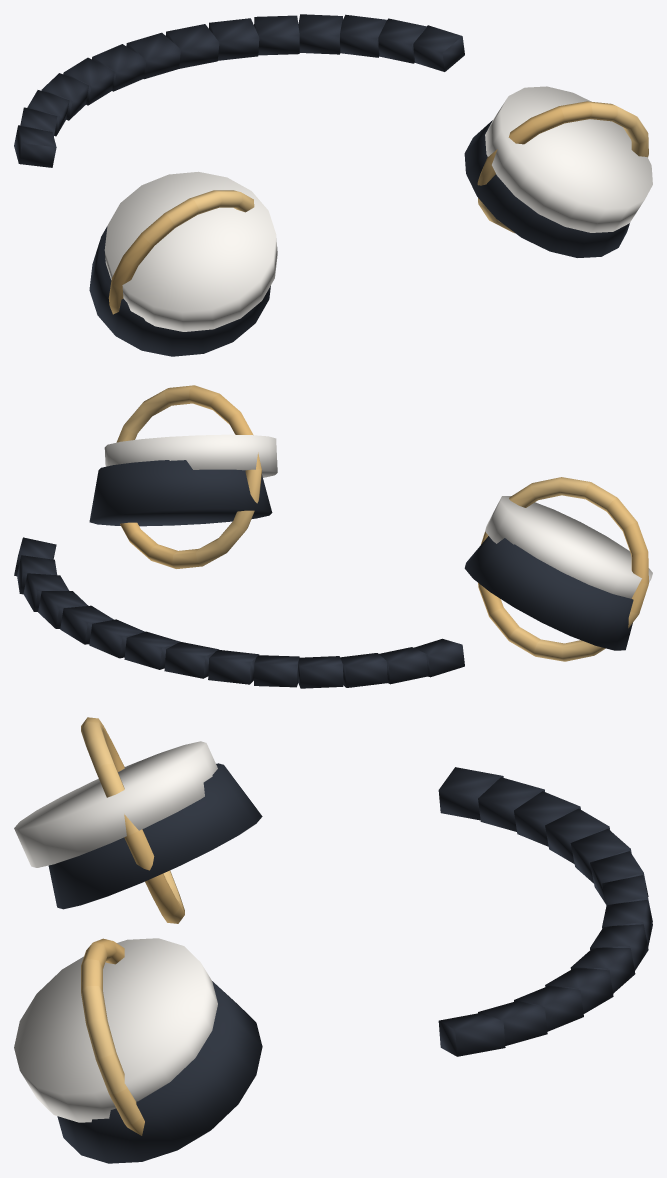
Rendered from studio-headphones.glb.
3 views of the same model, one above another, from view 1: azimuth 30°, elevation 25°; view 2: azimuth 150°, elevation 25°; view 3: azimuth 270°, elevation 25° (orthographic). The views are drawn at different scales.
Parts seen in each view (by area): view 1: TS_HeadProp_studio-headphones; view 2: TS_HeadProp_studio-headphones; view 3: TS_HeadProp_studio-headphones.
Part boxes in pixels (x1,y1,x2,y2): TS_HeadProp_studio-headphones: (14,14,652,356); TS_HeadProp_studio-headphones: (14,385,652,688); TS_HeadProp_studio-headphones: (14,717,652,1163).
Bounding box in the file's own units: 0.2158 × 0.0585 × 0.1818.
1 material, 1 textured.
